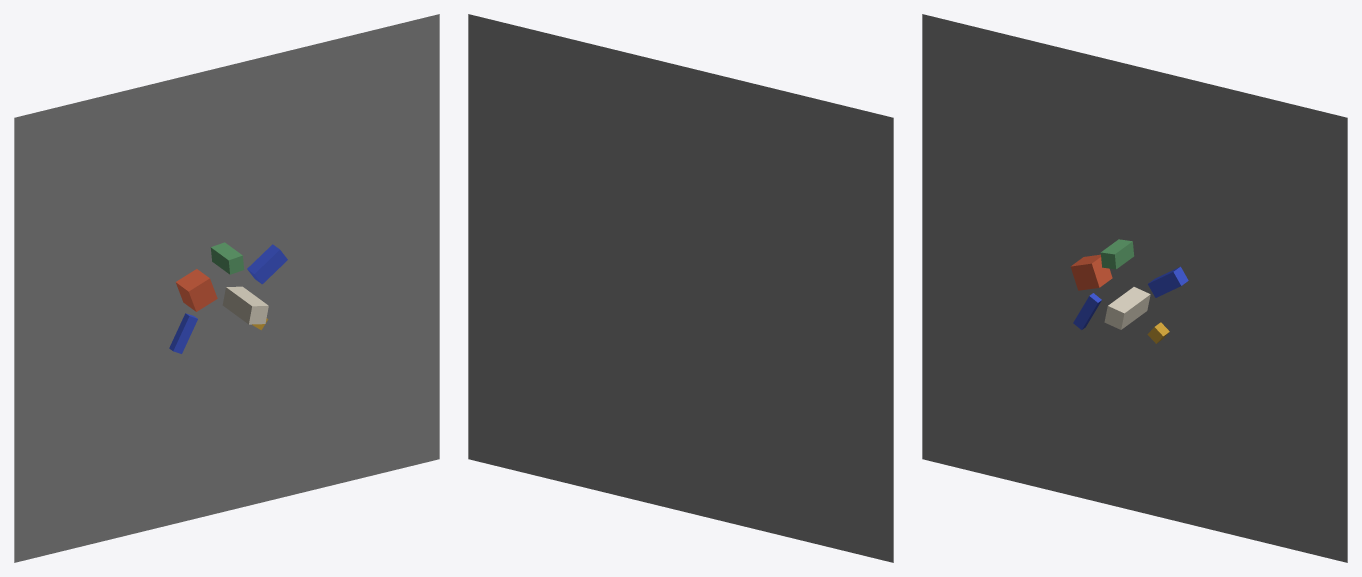
File: boxes.obj
3 views of the same model, side by side, from view 1: azimuth 30°, elevation 25°; view 2: azimuth 150°, elevation 25°; view 3: azimuth 330°, elevation 25° (orthographic).
Size of the model in its own units: 30 by 30 by 3.2.
